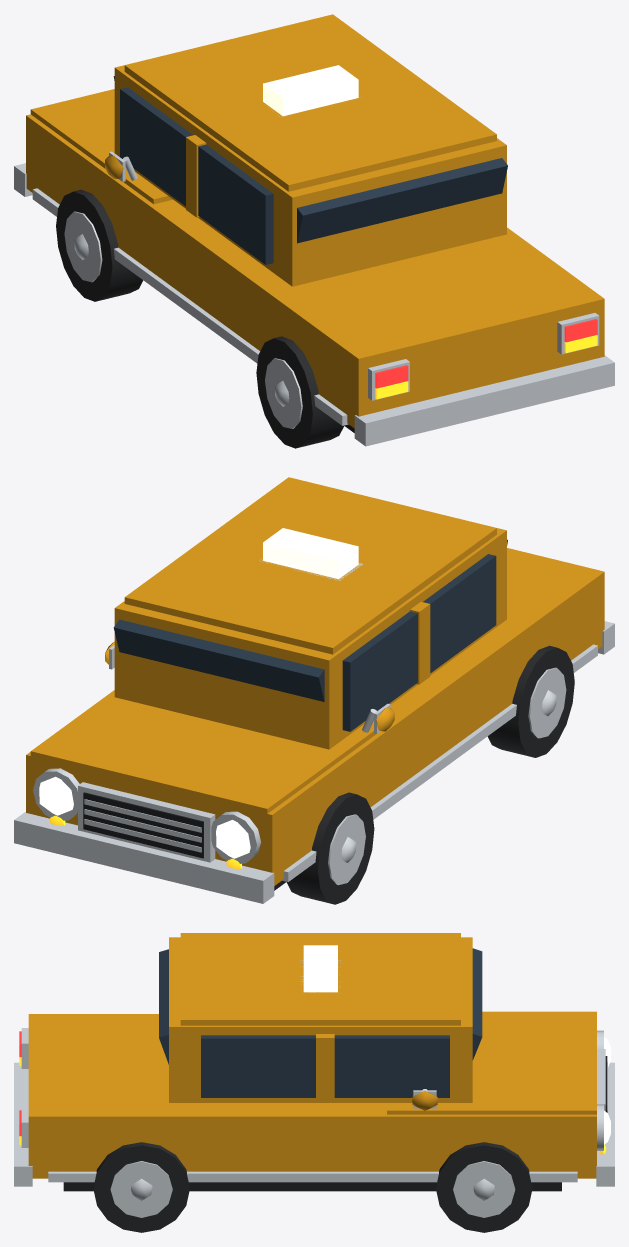
The model's file is prop_city_car.glb.
3 renders of one model, top to bottom at view 1: azimuth 30°, elevation 25°; view 2: azimuth 150°, elevation 25°; view 3: azimuth 270°, elevation 25°, orthographic. The views are drawn at different scales.
Visible parts, largest first — view 1: prop_city_car; view 2: prop_city_car; view 3: prop_city_car.
Part boxes in pixels (bbox=[...]): prop_city_car: bbox=[14, 14, 614, 448]; prop_city_car: bbox=[14, 477, 614, 904]; prop_city_car: bbox=[14, 933, 614, 1232].
Size of the model in its own units: 1.79 by 1.54 by 3.86.
